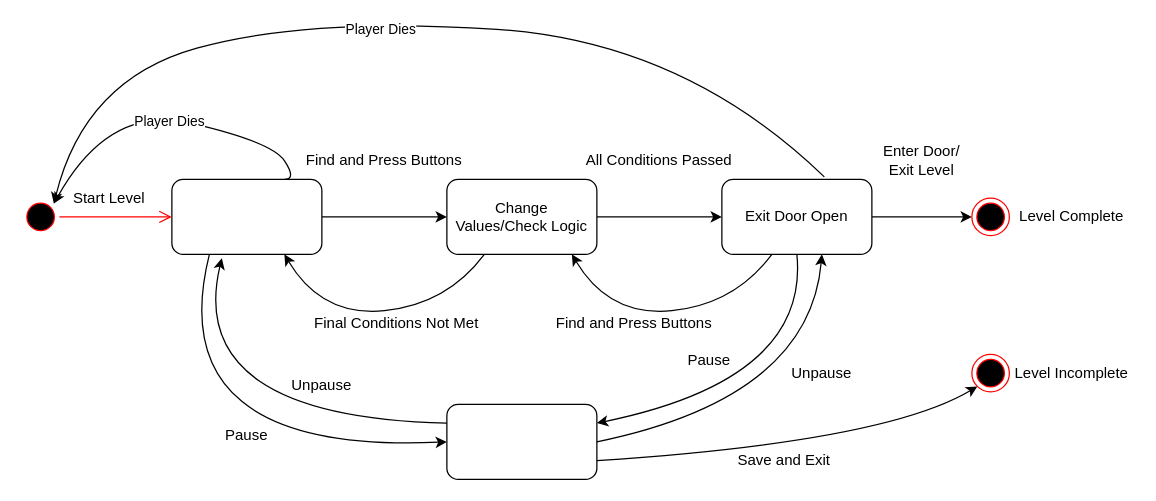
The diagram is 1156 pixels wide and 501 high, and some of its shapes have lost their labels. The shapes that lost their labels are listed below. From the top down, each one's centre as x and y in pixels, then its label:
(246,216): Exit Door Closed
(521,441): Game Paused
